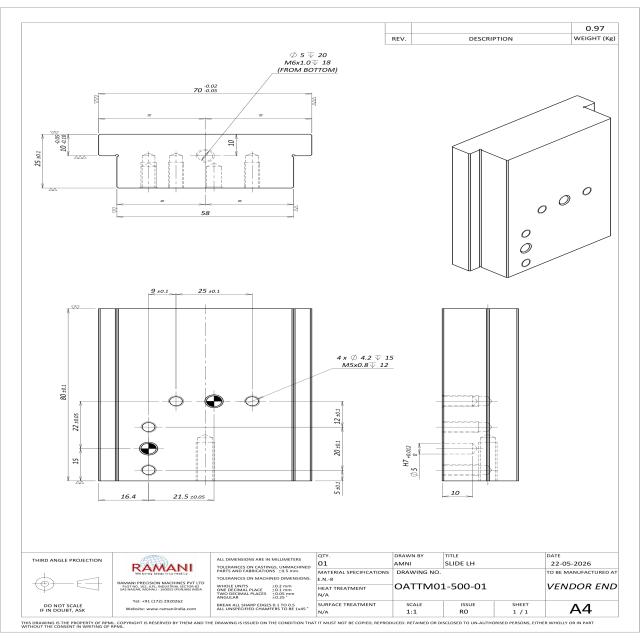dimension: (402, 444, 418, 479), (336, 354, 396, 362), (288, 50, 329, 59), (341, 361, 390, 368), (284, 60, 334, 66), (192, 84, 219, 94), (54, 134, 68, 152), (32, 150, 42, 167), (172, 494, 206, 499), (332, 440, 342, 457), (332, 408, 342, 425), (197, 287, 221, 294), (59, 383, 68, 401), (148, 287, 170, 294), (72, 412, 79, 432), (332, 482, 342, 496), (120, 493, 138, 500), (449, 490, 462, 496), (200, 210, 212, 216), (71, 458, 79, 466), (227, 139, 234, 147)
